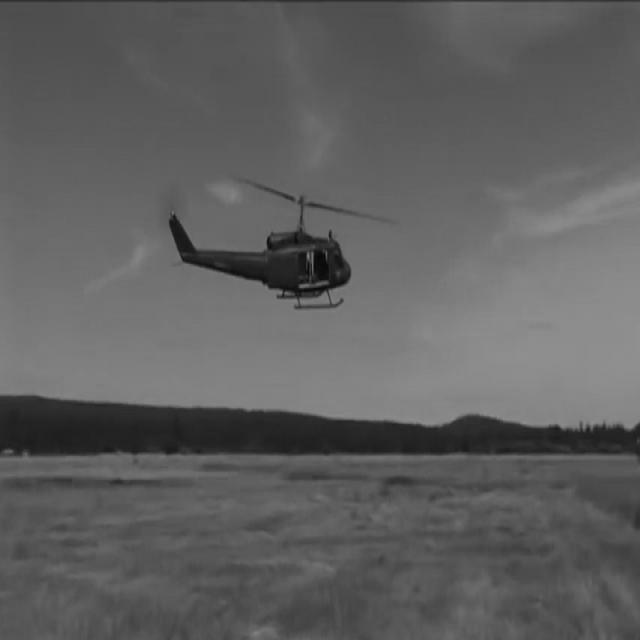helikopter: (162, 172, 410, 346)
